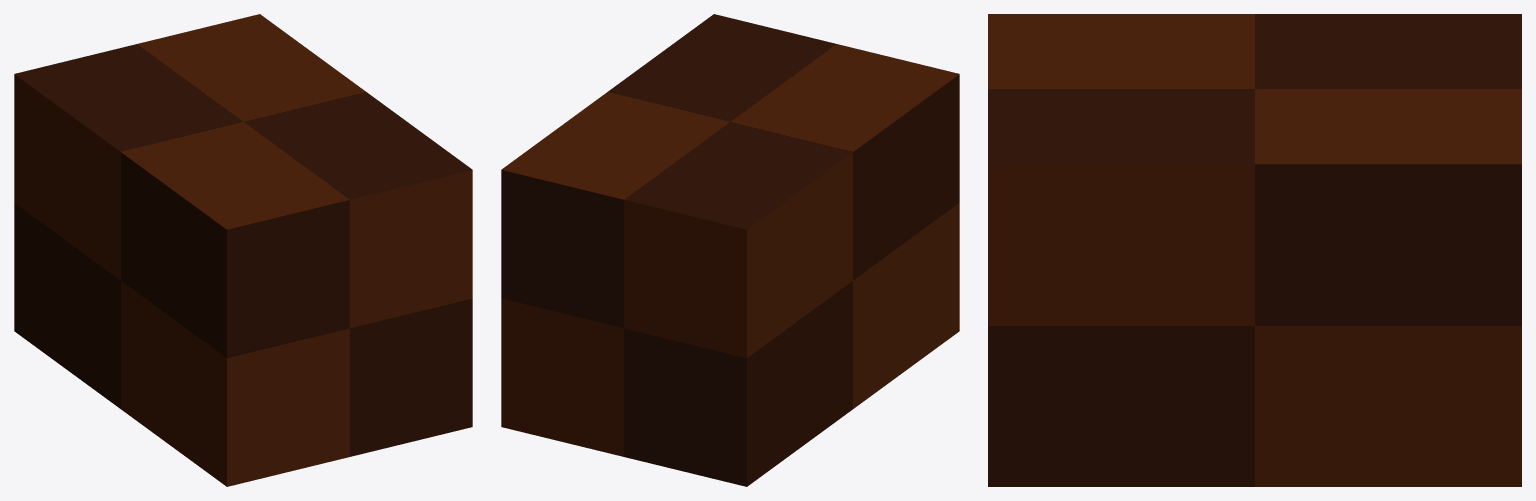
File: moss_boar.glb
3 views of the same model, side by side, from view 1: azimuth 30°, elevation 25°; view 2: azimuth 150°, elevation 25°; view 3: azimuth 270°, elevation 25° (orthographic). The views are drawn at different scales.
Parts seen in each view (by area): view 1: body; view 2: body; view 3: body.
Part boxes in pixels (x1,y1,x2,y2): body: [14, 14, 472, 486]; body: [501, 14, 959, 486]; body: [988, 14, 1521, 486].
Size of the model in its own units: 1 by 1 by 1.5.
2 materials, 1 textured.
